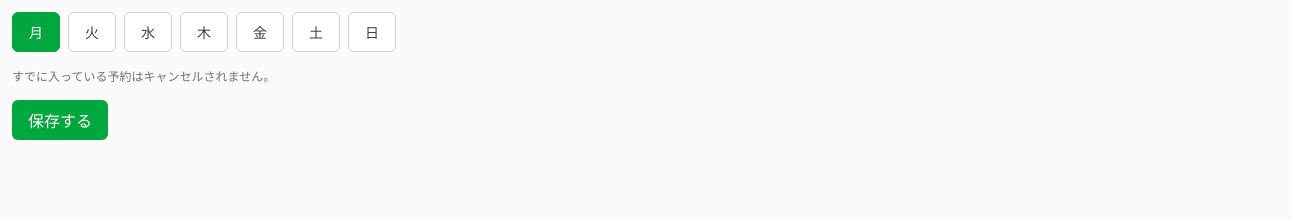
Test case: すべて外して保存すると、定休日なしを送る
Expected: the button "保存する" is shown, [12,100,108,140]
What coordinates should you click on to do the following:
click the button named "月曜日"
I would click on:
 (36, 32)
Its box is [12,12,60,52].
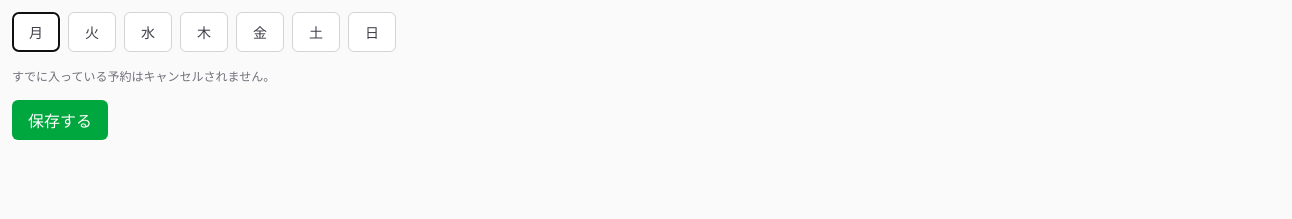
What coordinates should you click on to do the following:
click the button "保存する"
I would click on:
 (60, 120)
Its box is [12,100,108,140].
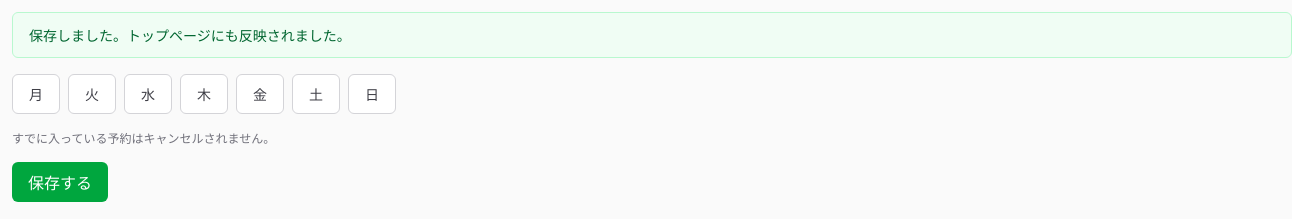
Expected: the text "保存しました。トップページにも反映されました。" is shown, [12,12,1291,58]
